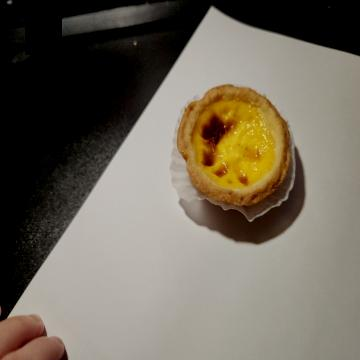EggTart: (177, 83, 292, 207)
